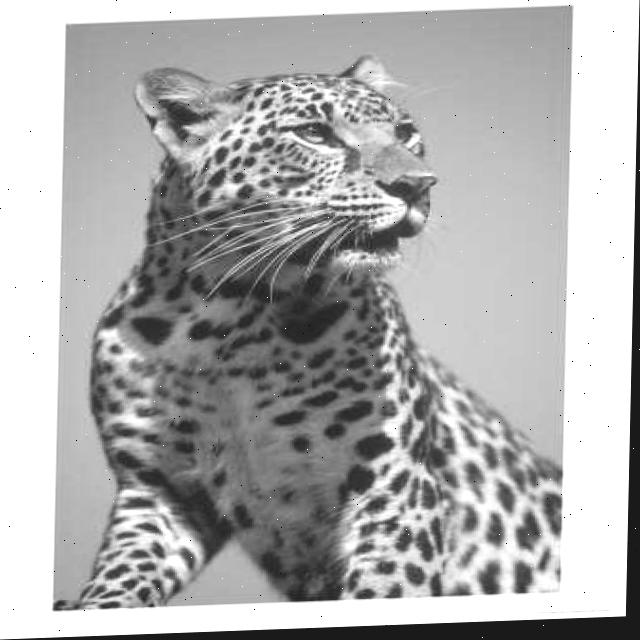Leopard: (72, 26, 546, 570)
